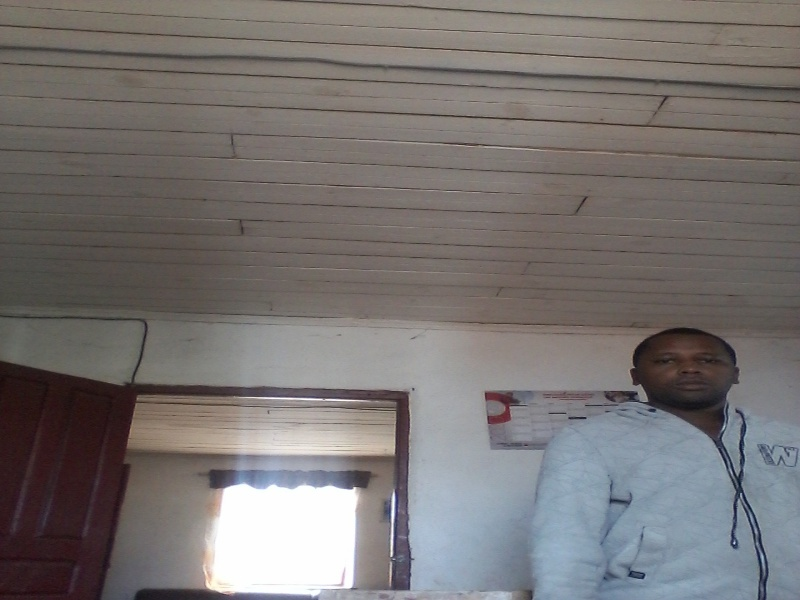TsisyArotava: (622, 324, 750, 430)
